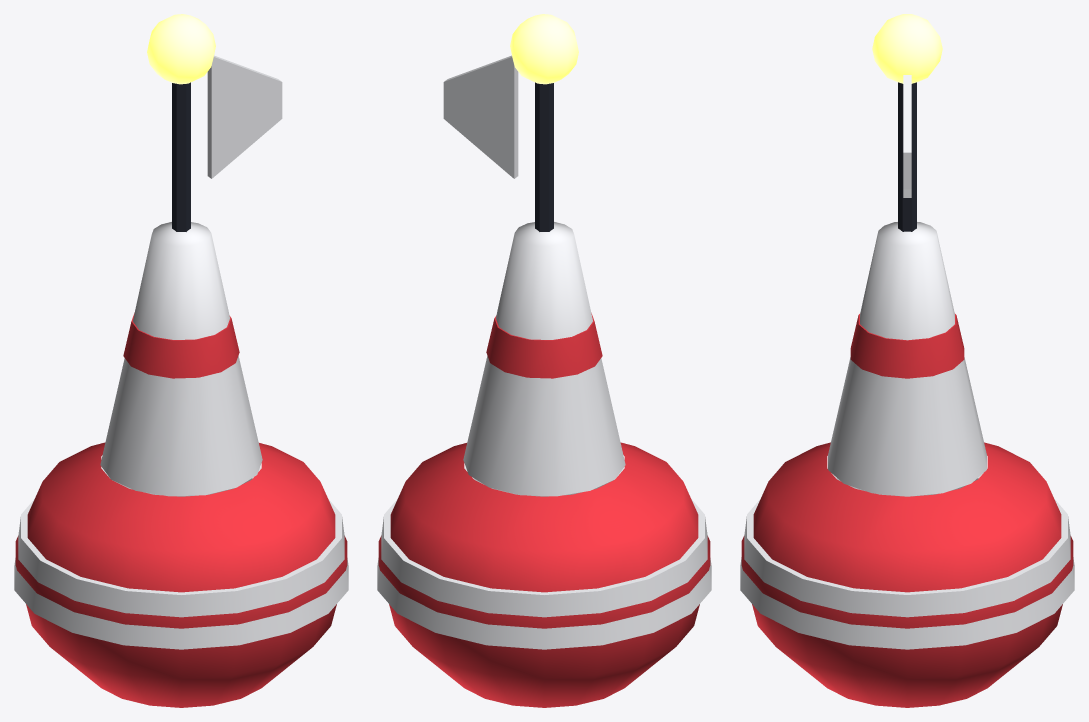
Rendered from buoy.glb.
3 views of the same model, side by side, from view 1: azimuth 30°, elevation 25°; view 2: azimuth 150°, elevation 25°; view 3: azimuth 270°, elevation 25° (orthographic).
Visible parts, largest first — view 1: Buoy; view 2: Buoy; view 3: Buoy.
Boxes of the visible parts, x1,y1,x2,y2 form: Buoy: (14,14,348,707); Buoy: (377,14,711,707); Buoy: (740,14,1074,707).
Bounding box in the file's own units: 1.25 × 2.68 × 1.23.
